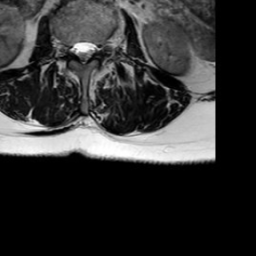CCS_normal: (80, 29, 87, 71)
LFS_stenosis: (96, 32, 105, 60)
LLS_normal: (87, 33, 96, 63)
RFS_stenosis: (61, 31, 70, 62)
RLS_normal: (70, 32, 80, 61)
